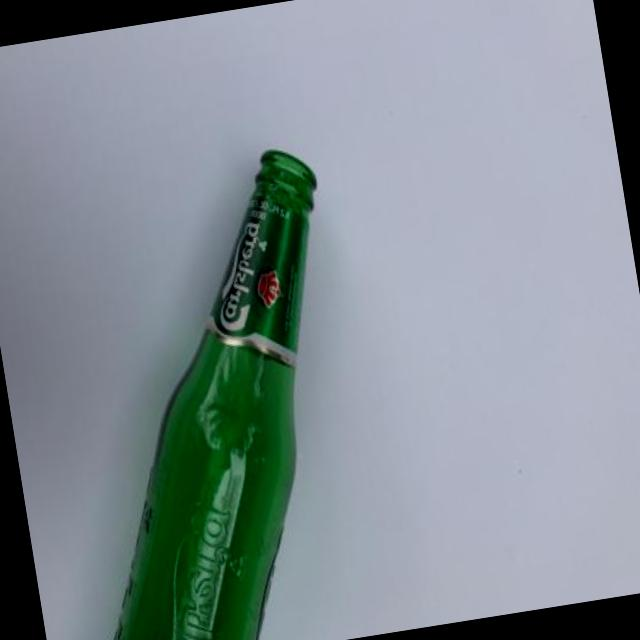chai_thuy_tinh: (115, 149, 316, 640)
